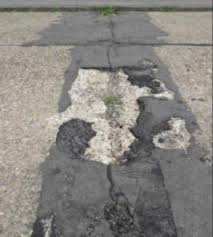pothole: (51, 56, 197, 236)
